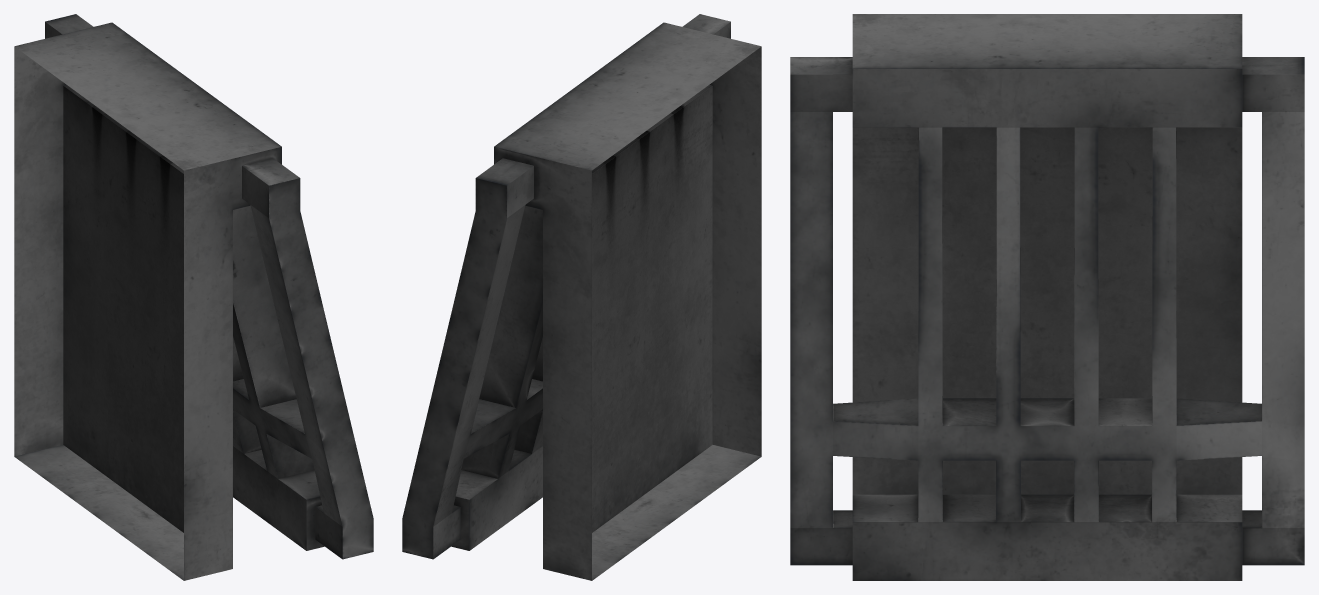
Rendered from estante_armas.fbx.
3 renders of one model, left to right at view 1: azimuth 30°, elevation 25°; view 2: azimuth 150°, elevation 25°; view 3: azimuth 270°, elevation 25°, orthographic. The views are drawn at different scales.
Visible parts, largest first — view 1: weapon stand.001; view 2: weapon stand.001; view 3: weapon stand.001.
Boxes of the visible parts, x1,y1,x2,y2 form: weapon stand.001: [14, 14, 373, 580]; weapon stand.001: [402, 14, 761, 580]; weapon stand.001: [790, 14, 1304, 580].
Size of the model in its own units: 70 by 160 by 158.
